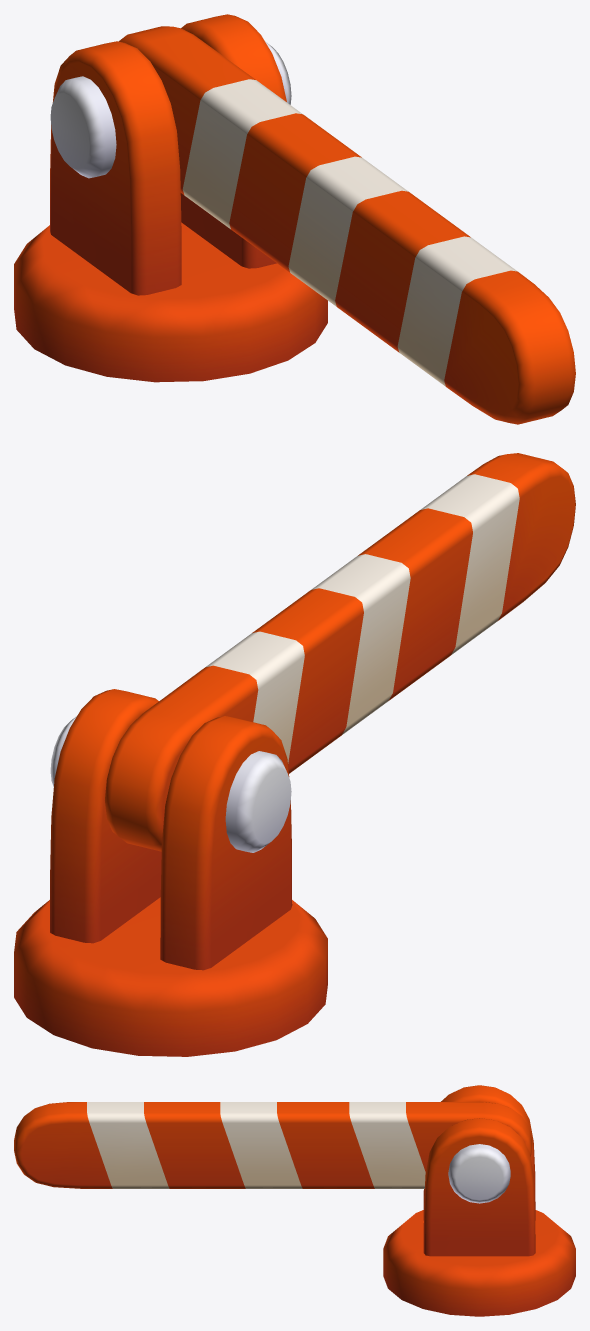
The model's file is Barrier.fbx.
3 renders of one model, top to bottom at view 1: azimuth 30°, elevation 25°; view 2: azimuth 150°, elevation 25°; view 3: azimuth 270°, elevation 25°, orthographic. The views are drawn at different scales.
Parts seen in each view (by area): view 1: Barrier, Barrier_Open; view 2: Barrier, Barrier_Open; view 3: Barrier_Open, Barrier.
Part boxes in pixels (left/top/right/bottom): Barrier: left=14, top=14, right=327, bottom=382; Barrier_Open: left=118, top=26, right=575, bottom=424; Barrier: left=14, top=689, right=327, bottom=1056; Barrier_Open: left=105, top=453, right=575, bottom=851; Barrier_Open: left=14, top=1102, right=531, bottom=1188; Barrier: left=383, top=1085, right=575, bottom=1316.
Size of the model in its own units: 1.29 by 1.26 by 3.77.
